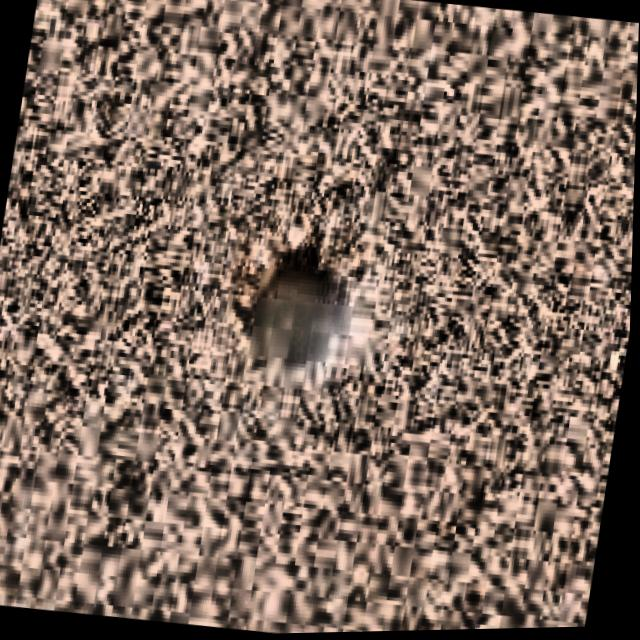Hole: (181, 169, 420, 434)
